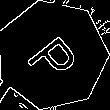P_NE: (20, 25, 84, 85)
